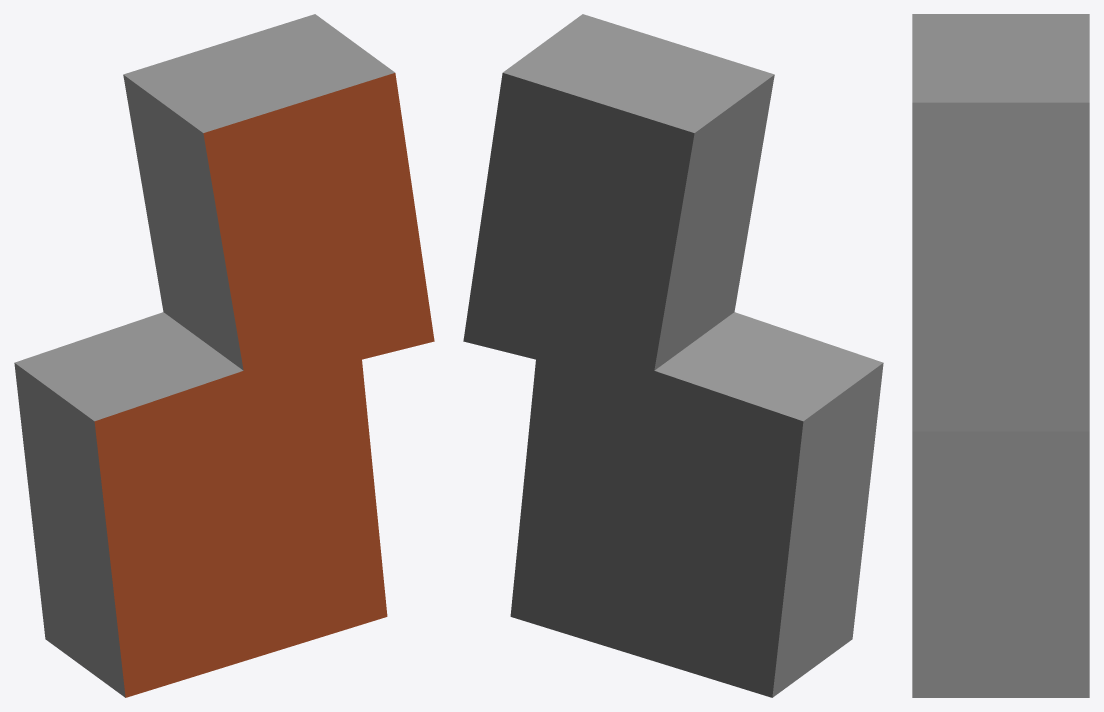
File: construction_1376_assumed_A_Casa_h6m.obj
3 renders of one model, left to right at view 1: azimuth 30°, elevation 25°; view 2: azimuth 150°, elevation 25°; view 3: azimuth 270°, elevation 25°, orthographic. The views are drawn at different scales.
Parts seen in each view (by area): view 1: construction_1376_assumed_A_Casa; view 2: construction_1376_assumed_A_Casa; view 3: construction_1376_assumed_A_Casa.
Part boxes in pixels (bbox=[...]): construction_1376_assumed_A_Casa: bbox=[14, 14, 434, 697]; construction_1376_assumed_A_Casa: bbox=[463, 14, 883, 697]; construction_1376_assumed_A_Casa: bbox=[912, 14, 1089, 697].
Bounding box in the file's own units: 14.69 × 23.09 × 6.
